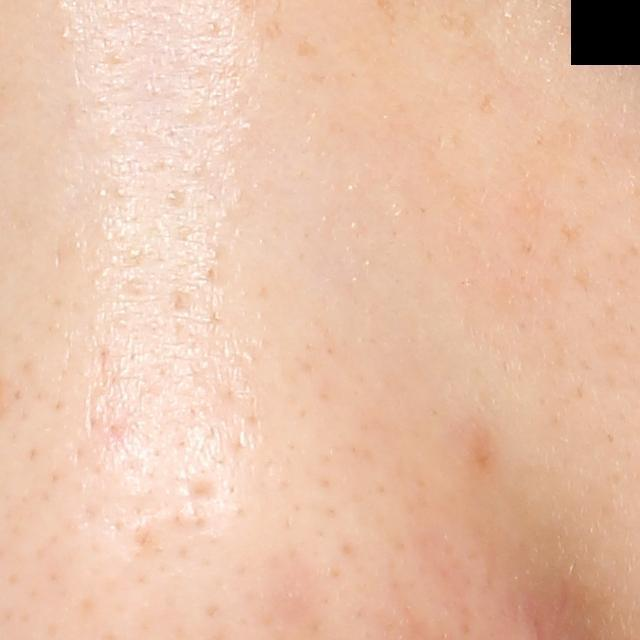atrophic_scar: (169, 470, 227, 513)
melasma: (290, 37, 323, 62), (473, 90, 499, 117)
